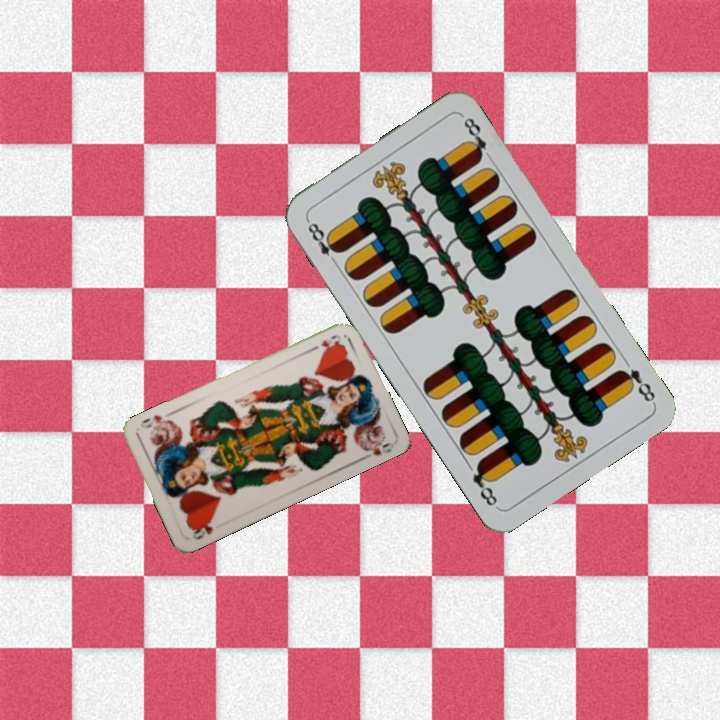E8: (302, 215, 344, 268), (614, 364, 658, 406)
HO: (306, 330, 344, 354), (188, 517, 215, 543)
